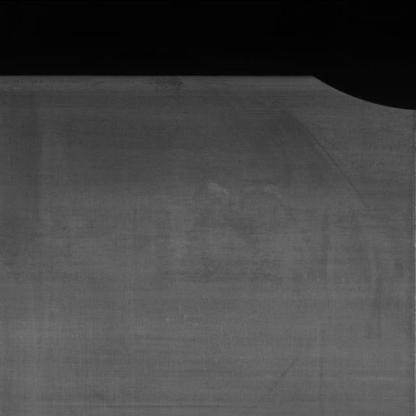crescent_gap: (301, 69, 416, 118)
